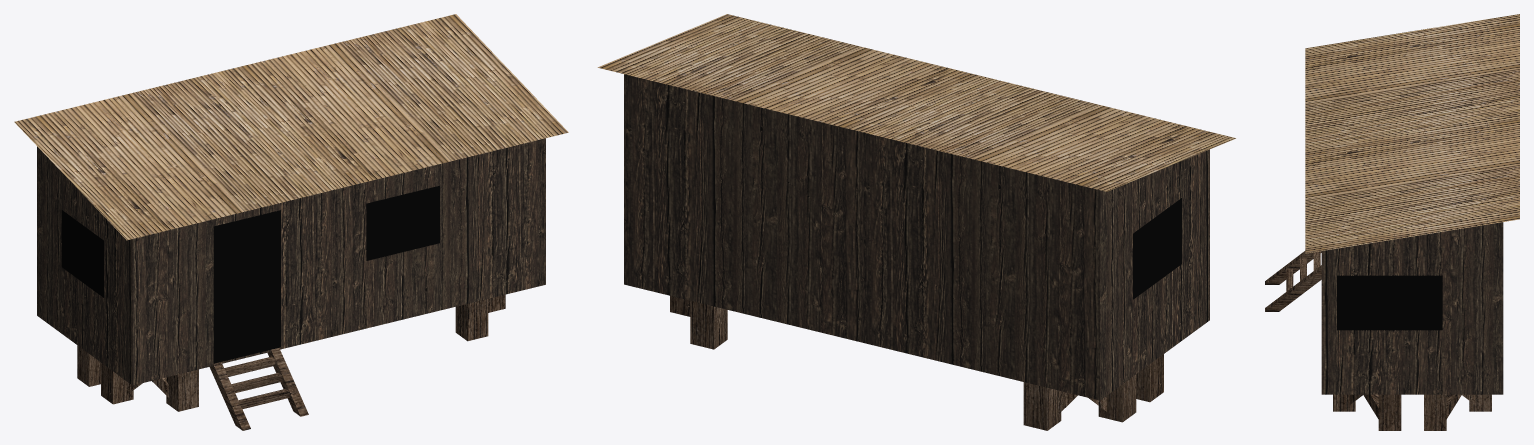
File: build.FBX
3 renders of one model, left to right at view 1: azimuth 30°, elevation 25°; view 2: azimuth 150°, elevation 25°; view 3: azimuth 270°, elevation 25°, orthographic. The views are drawn at different scales.
Visible parts, largest first — view 1: build; view 2: build; view 3: build.
Part boxes in pixels (x1,y1,x2,y2): build: (14,14,568,430); build: (597,14,1235,430); build: (1265,14,1519,430).
Size of the model in its own units: 214 by 108 by 112.
